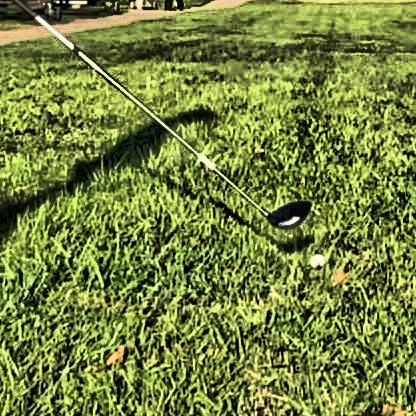golfball: (306, 249, 321, 264)
